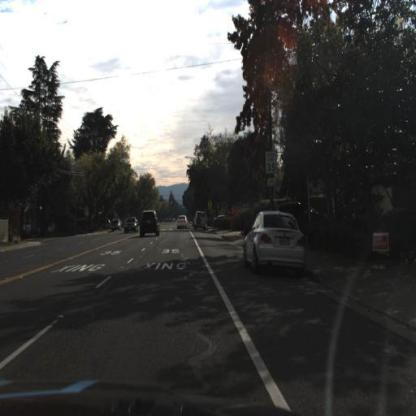car: (244, 211, 308, 279), (287, 202, 326, 236), (139, 206, 164, 240), (138, 206, 162, 238), (195, 210, 208, 231), (125, 218, 139, 236), (177, 215, 189, 231)
